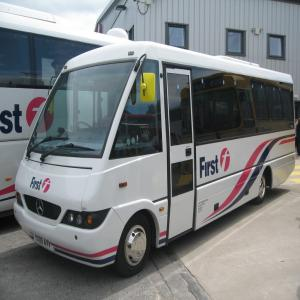Vehicle-registration-plate: (34, 237, 53, 250)
